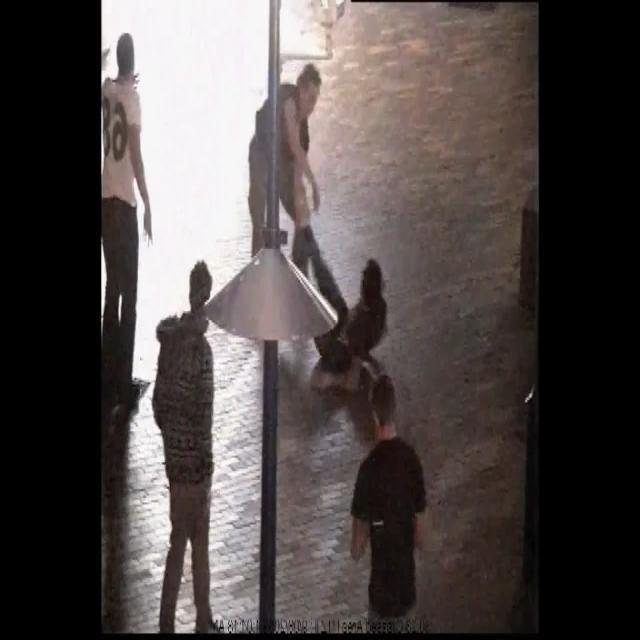non-violence: (151, 251, 221, 640), (337, 375, 435, 636), (103, 35, 162, 401)
violence: (244, 60, 386, 375)
